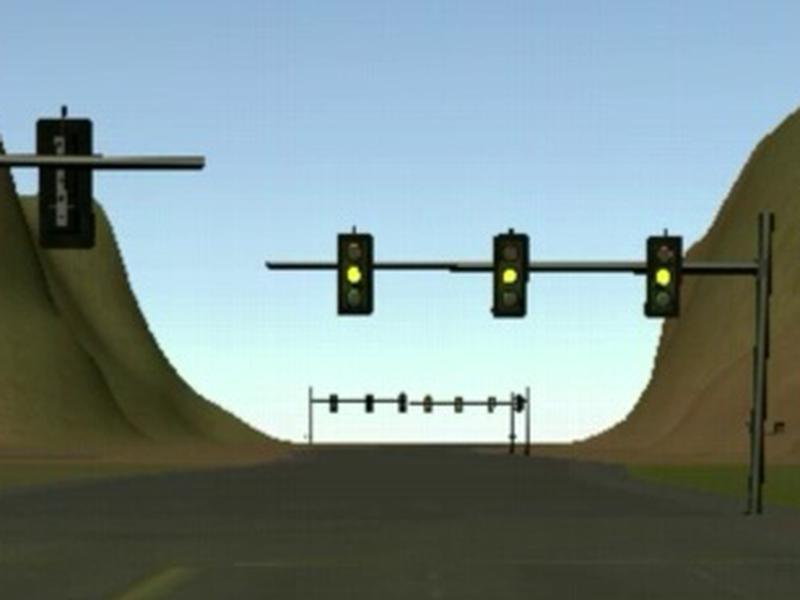Yellow: (492, 234, 529, 319), (337, 234, 374, 316), (644, 236, 681, 318)
